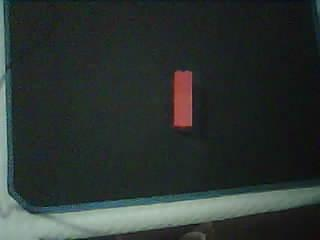lego: (172, 69, 193, 127)
